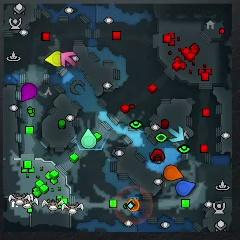Other: (127, 199, 140, 211)
p1: (176, 180, 196, 196)
p2: (81, 129, 97, 149)
p3: (20, 83, 39, 101)
p4: (45, 51, 65, 68)
p5: (165, 165, 183, 181)
x1: (60, 50, 77, 67)
x3: (168, 126, 185, 142)
